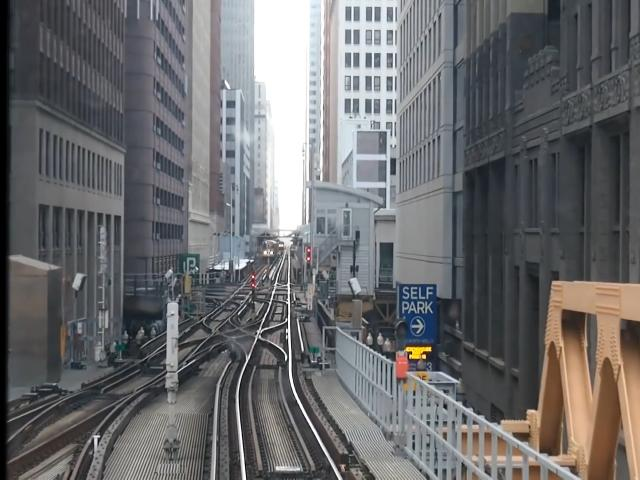signal light: (252, 276, 258, 314), (308, 248, 312, 271)
